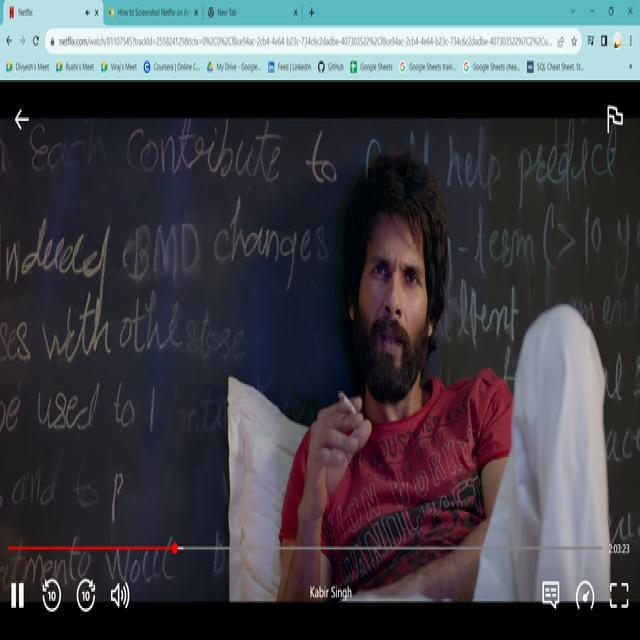smoking: (337, 388, 359, 420)
